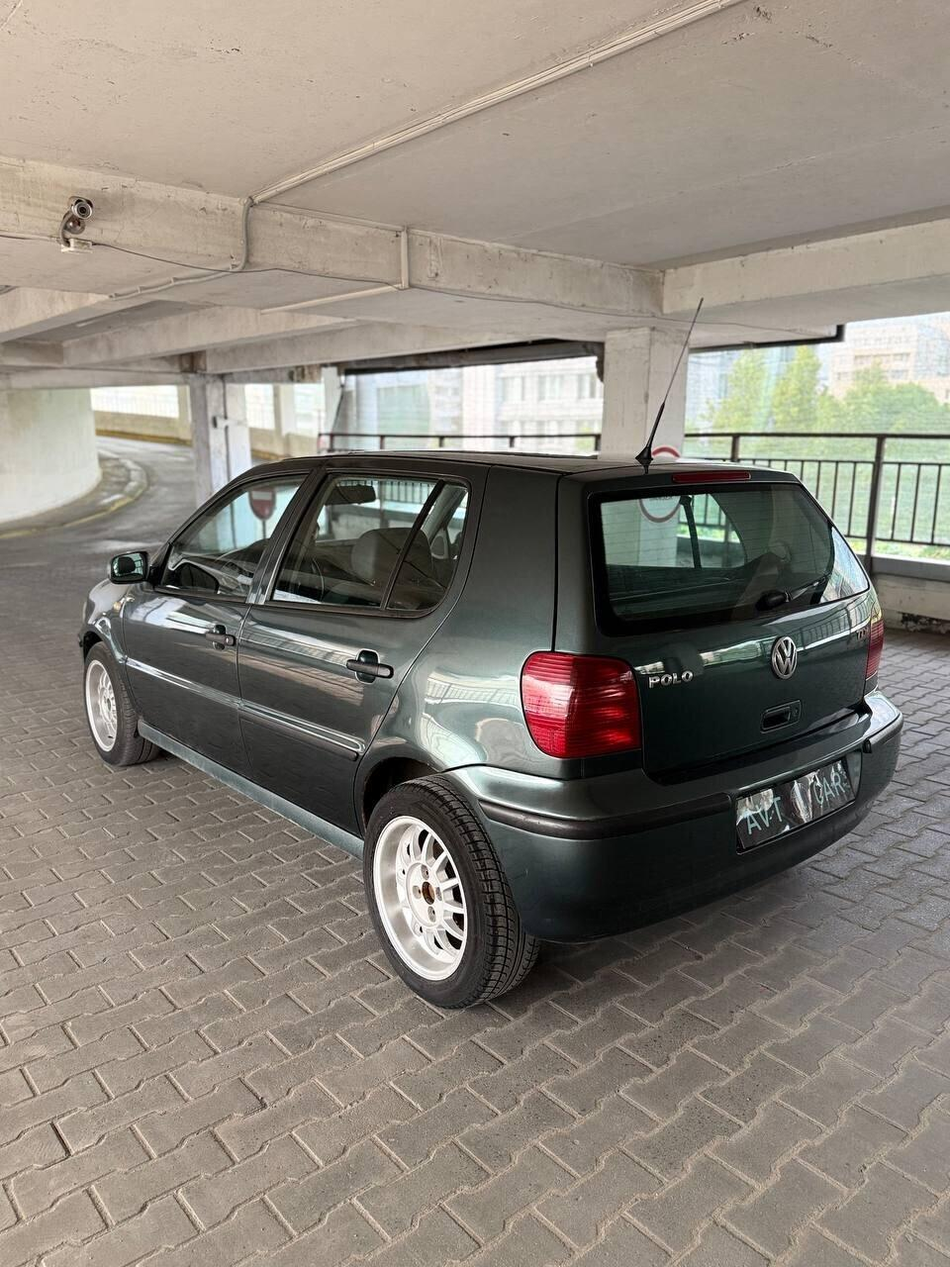Polo_2000-2002: (74, 424, 904, 1063)
